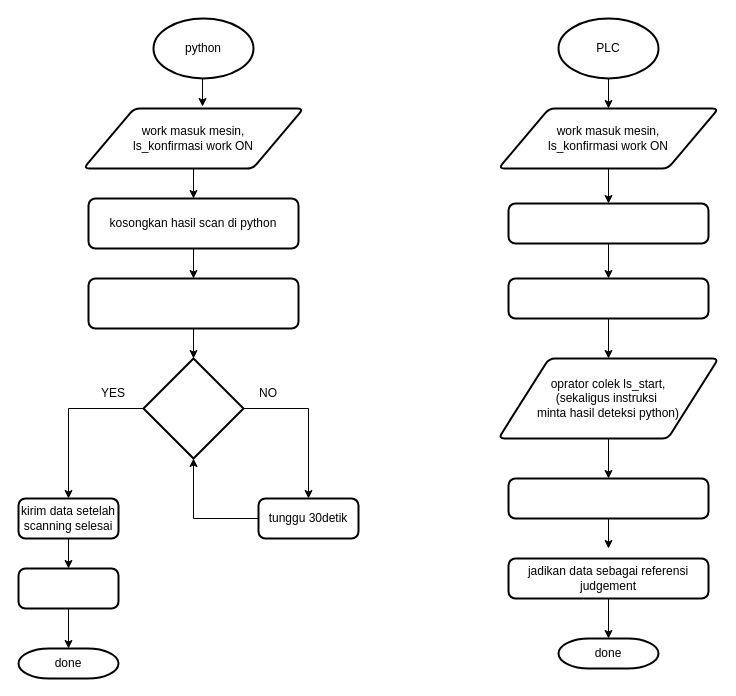
This 736x696 diagram has some shape labels left out. The centre of each missing label's shape, as x and y in pixels:
data di terima PLC: the point at 68,588
operator colek ls start?: the point at 193,408
python mulai scanning, dan simpan hasil scan di variabel A: the point at 193,303
reset memory hasil deteksi python: the point at 608,298
reset memory hasil deteksi python, set memory python start_scanning: the point at 608,223
simpan data dari python ke memory: the point at 608,498
